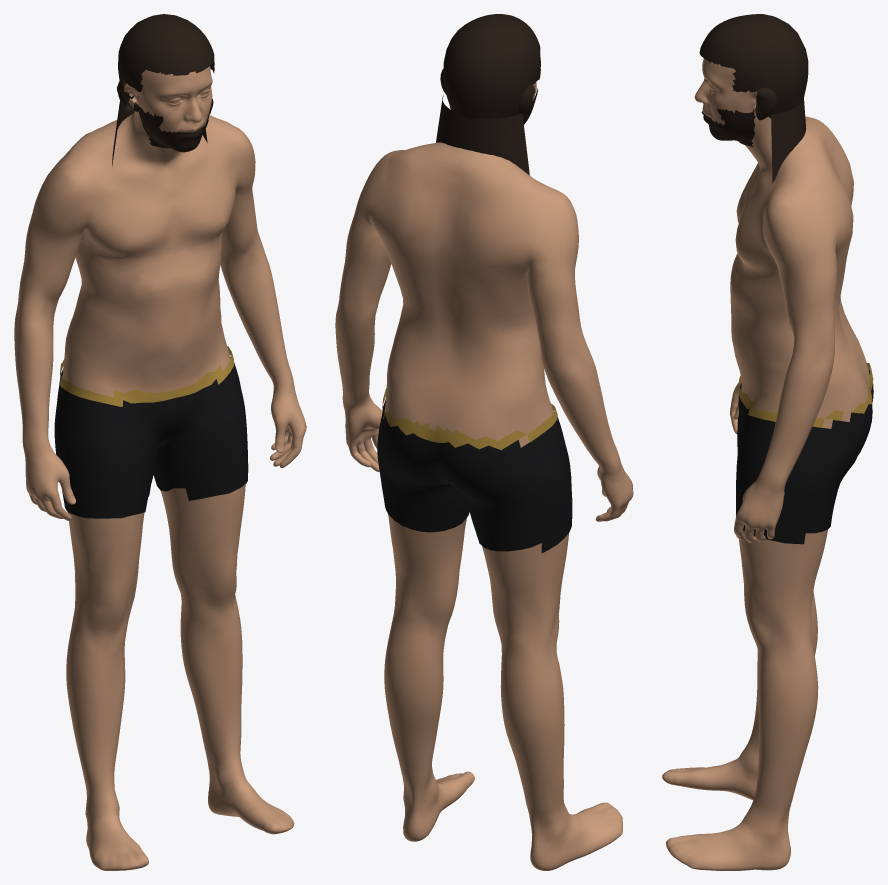
The model's file is avatar-source.glb.
3 renders of one model, left to right at view 1: azimuth 30°, elevation 25°; view 2: azimuth 150°, elevation 25°; view 3: azimuth 270°, elevation 25°, orthographic.
Visible parts, largest first — view 1: avatar-homme; view 2: avatar-homme; view 3: avatar-homme.
Boxes of the visible parts, <box> form: avatar-homme: <box>14,14,306,870</box>; avatar-homme: <box>335,14,633,870</box>; avatar-homme: <box>662,14,873,870</box>.
Size of the model in its own units: 0.6306 by 1.81 by 0.4239.
